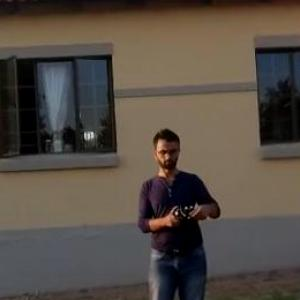follow: (133, 122, 225, 299)
